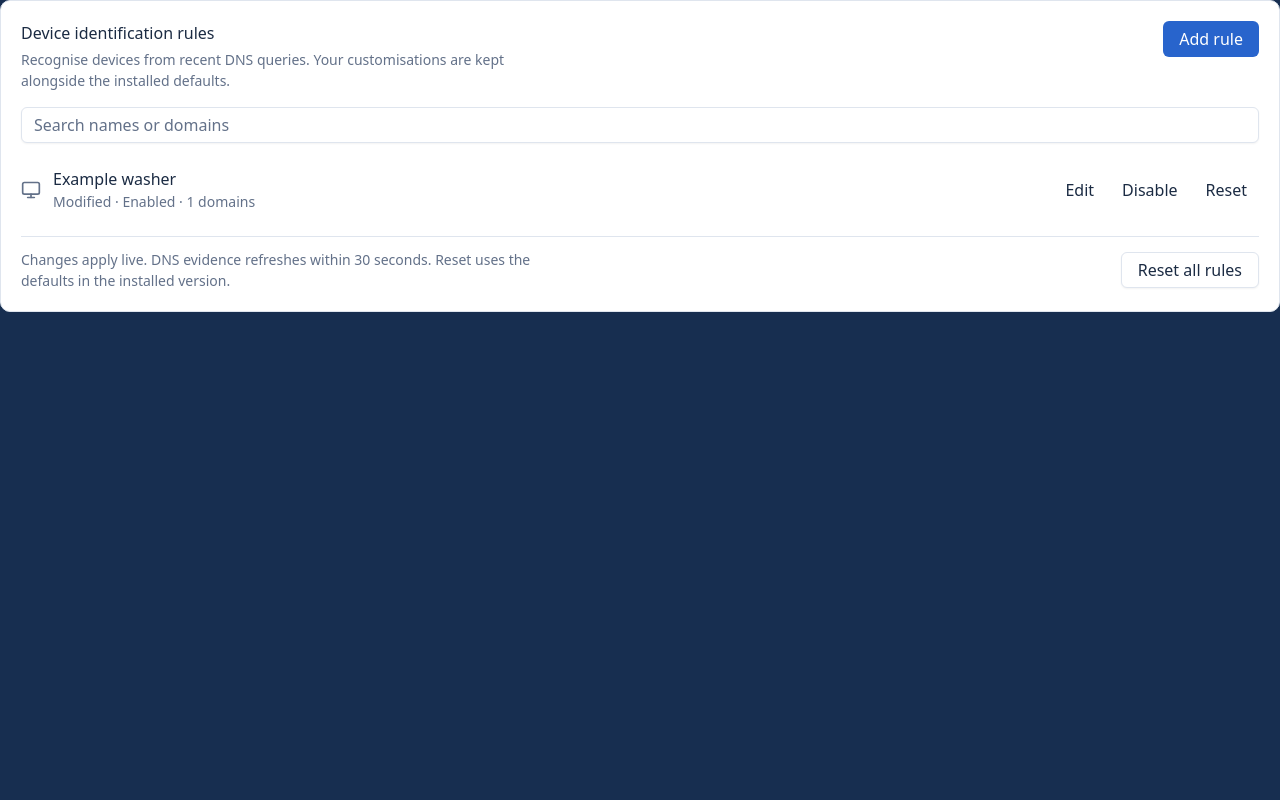
Test: retains an edited rule when the server rejects its revision
Click the button with aria-label "Edit Example washer": [1080, 190] box 1054,174 -> 1106,206
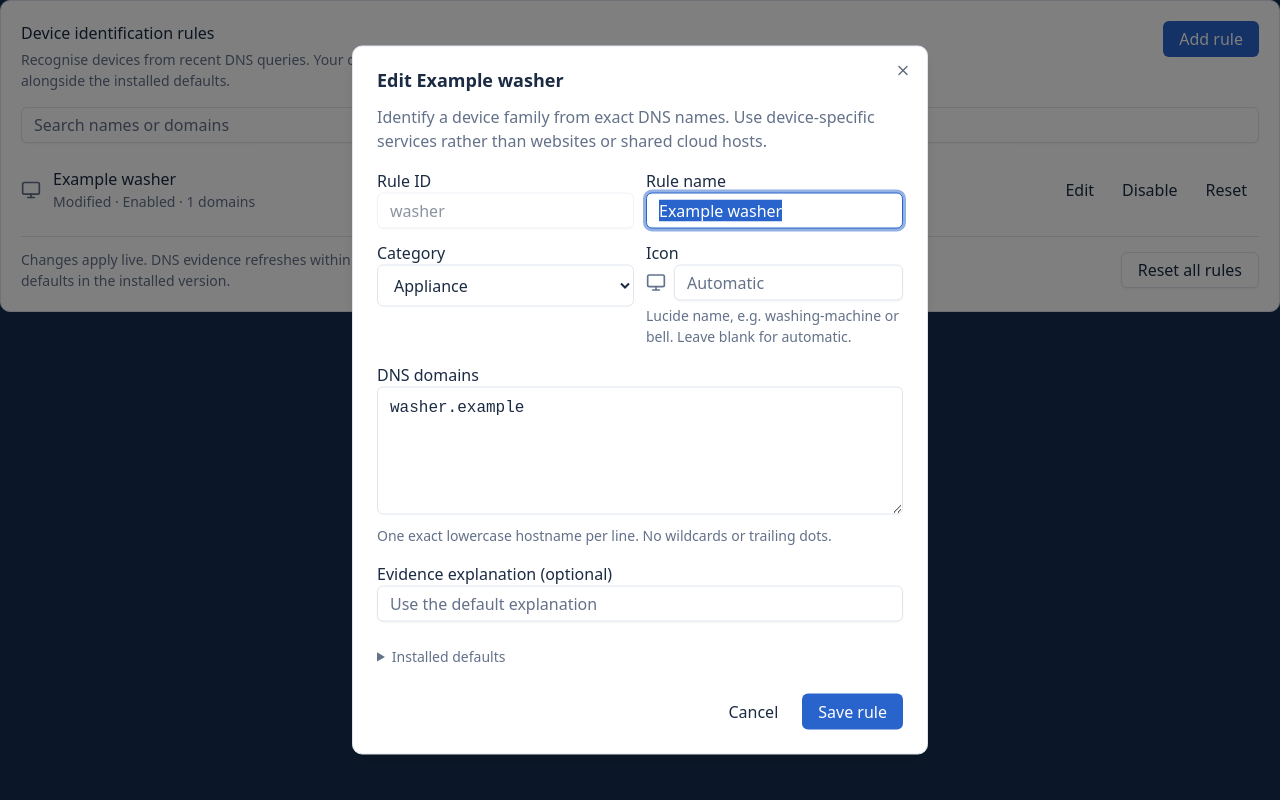
Replace the text in the field labelled "Rule name" with "My washer": [774, 210] box 646,192 -> 903,228
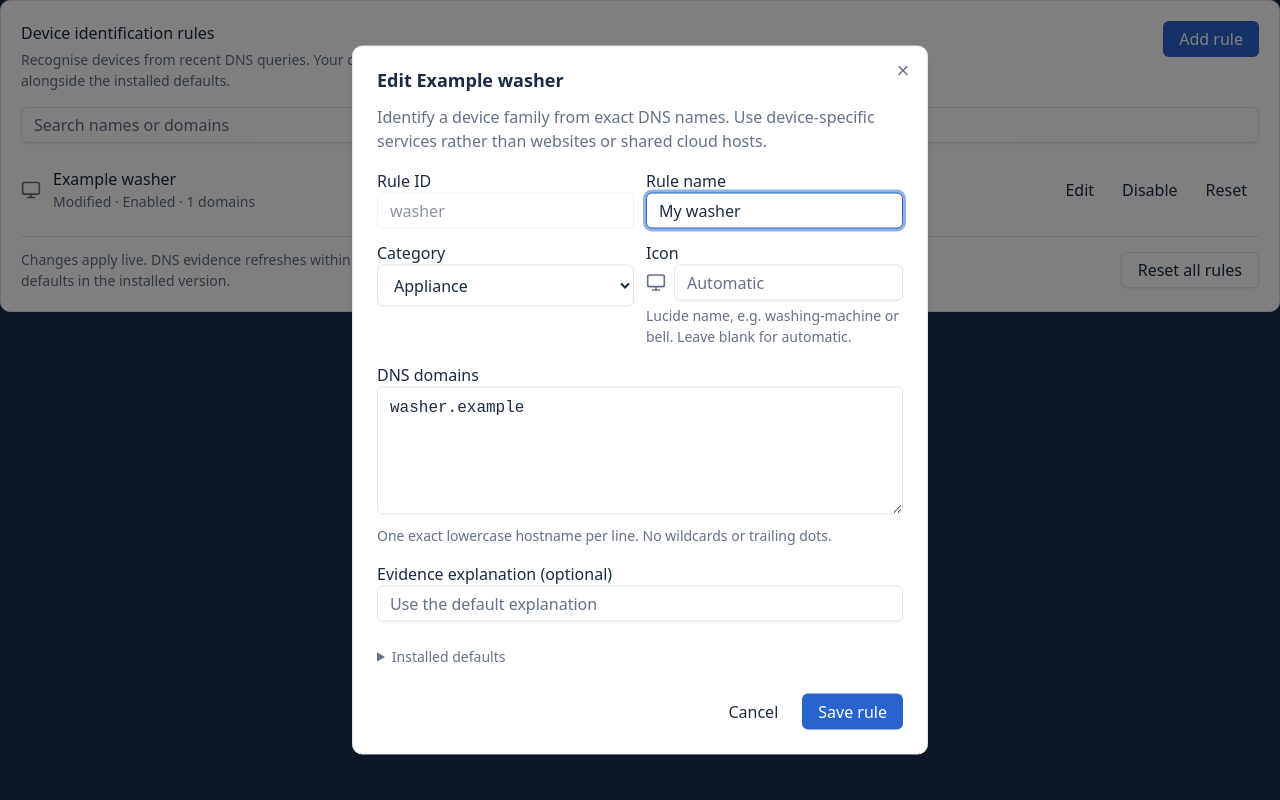
Click the button "Save rule": [853, 712] box 802,694 -> 903,730
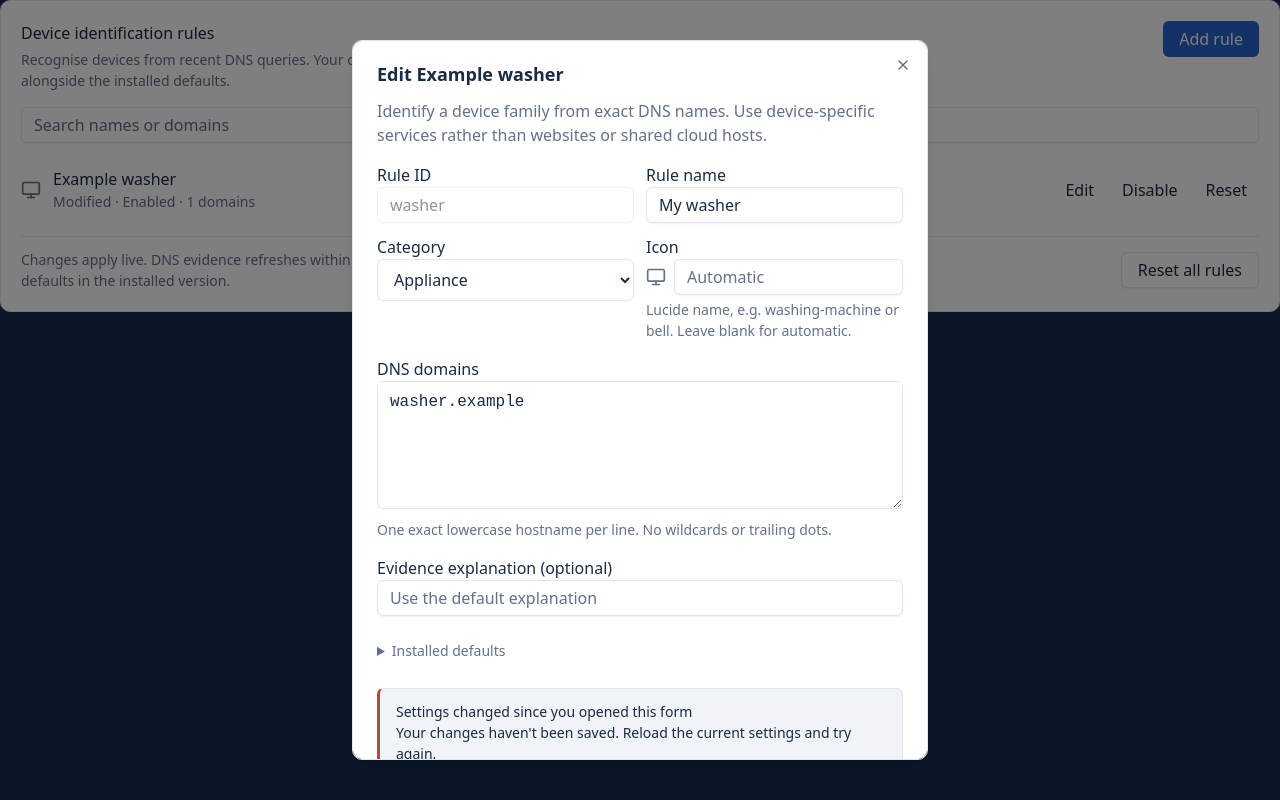
Now the text "Settings changed since you opened this form" is shown, box 396,702 -> 692,721
